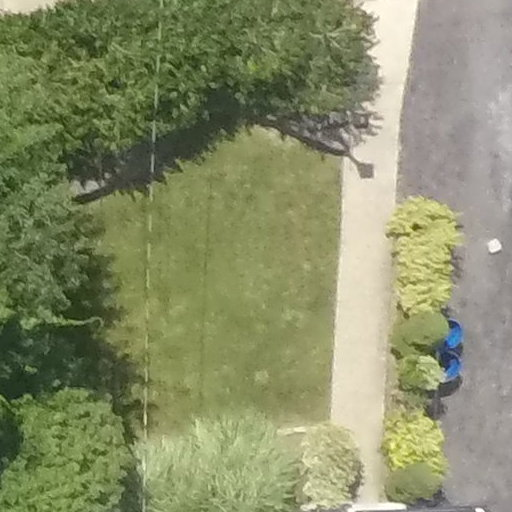container: (486, 235, 507, 255)
trash bin: (435, 346, 467, 386), (439, 320, 470, 353)
